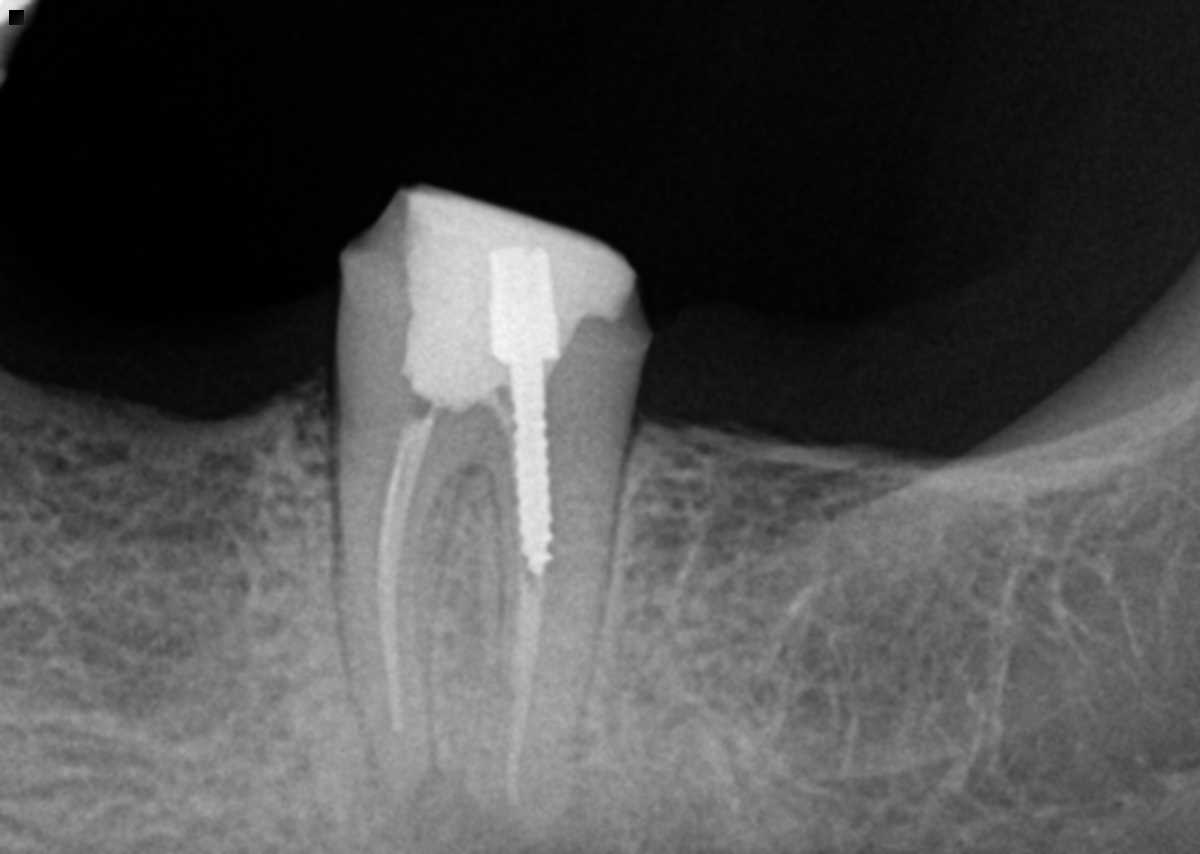Apical Lesion: (459, 773, 647, 854), (377, 775, 472, 854)
Distal Root: (474, 464, 625, 830)
Mesial Root: (328, 445, 469, 794)
Root Canal Filling: (376, 420, 435, 738), (509, 572, 544, 812)
